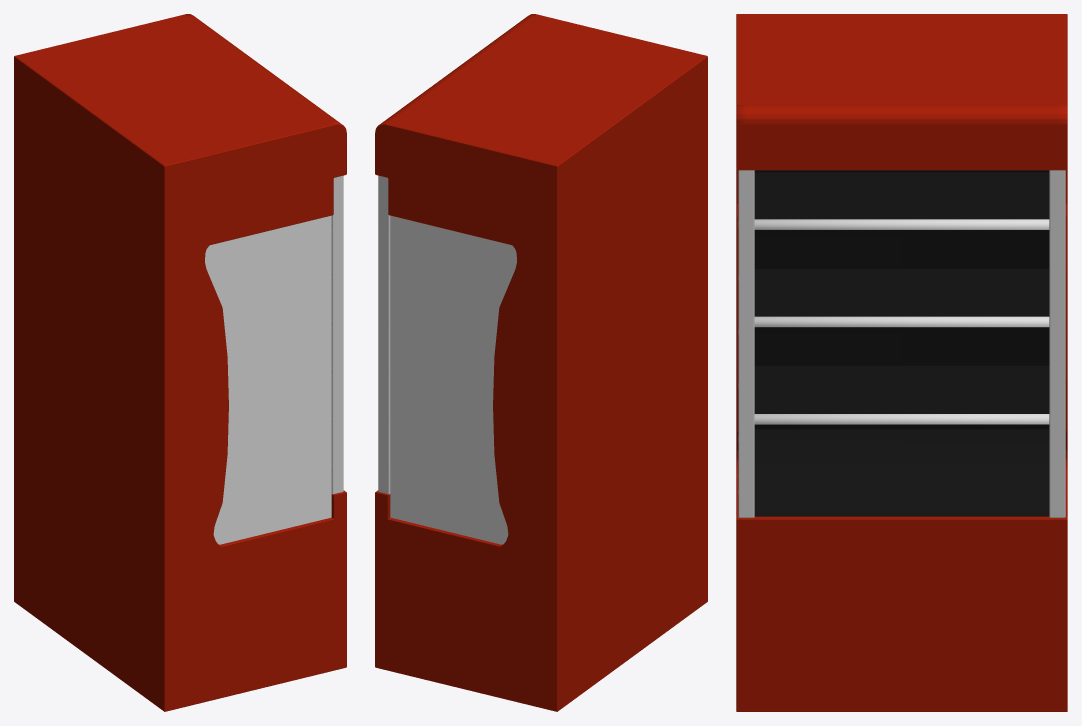
Rendered from coke_shelf.fbx.
3 views of the same model, side by side, from view 1: azimuth 30°, elevation 25°; view 2: azimuth 150°, elevation 25°; view 3: azimuth 270°, elevation 25° (orthographic). The views are drawn at different scales.
Parts seen in each view (by area): view 1: Cube, Cube.002, Cube.001; view 2: Cube, Cube.002, Cube.001; view 3: Cube, Cube.004, Cube.003, Cube.001, Cube.005.
Boxes of the visible parts, x1=… form: Cube: x1=14, y1=14, x2=346, y2=711; Cube.002: x1=205, y1=215, x2=331, y2=544; Cube.001: x1=331, y1=175, x2=343, y2=494; Cube: x1=375, y1=14, x2=707, y2=711; Cube.002: x1=390, y1=215, x2=516, y2=544; Cube.001: x1=378, y1=175, x2=390, y2=494; Cube: x1=736, y1=14, x2=1067, y2=711; Cube.004: x1=754, y1=172, x2=1049, y2=429; Cube.003: x1=754, y1=170, x2=1049, y2=516; Cube.001: x1=738, y1=170, x2=1065, y2=517; Cube.005: x1=754, y1=219, x2=1049, y2=424.
Bounding box in the file's own units: 70 × 200 × 100.
